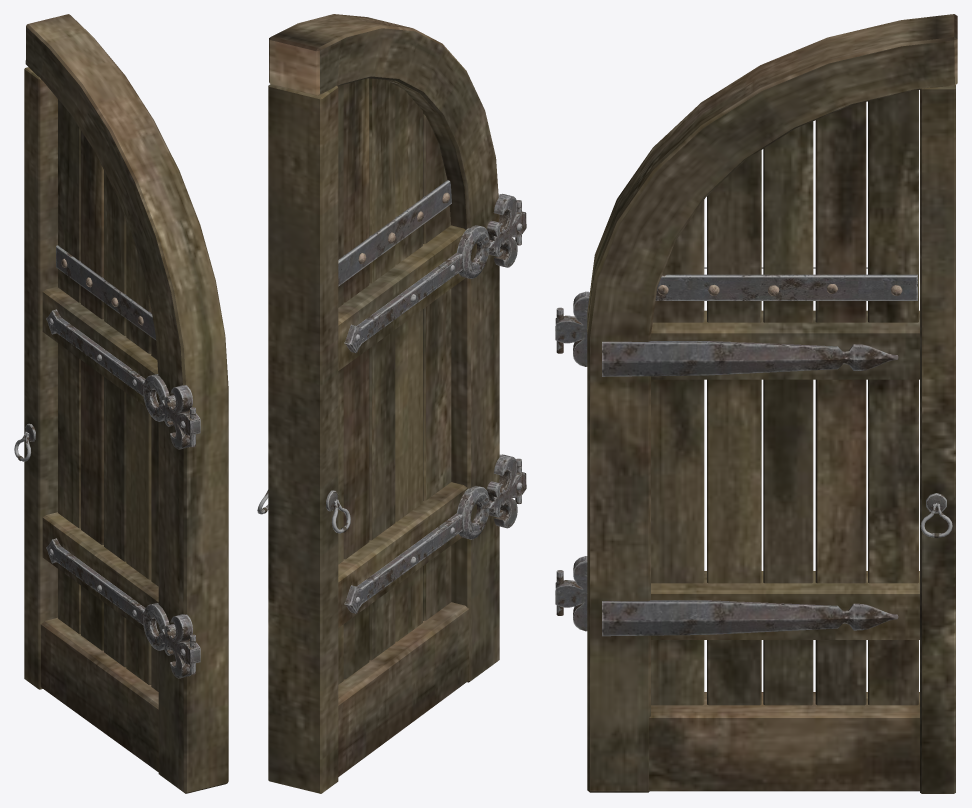
The model's file is SM_DoorWay_Large_Door_Right.glb.
3 renders of one model, left to right at view 1: azimuth 30°, elevation 25°; view 2: azimuth 150°, elevation 25°; view 3: azimuth 270°, elevation 25°, orthographic. The views are drawn at different scales.
Visible parts, largest first — view 1: SM_DoorWay_Large_Door_Right; view 2: SM_DoorWay_Large_Door_Right; view 3: SM_DoorWay_Large_Door_Right.
Part boxes in pixels (x1=…): SM_DoorWay_Large_Door_Right: x1=14, y1=14, x2=228, y2=793; SM_DoorWay_Large_Door_Right: x1=257, y1=14, x2=526, y2=793; SM_DoorWay_Large_Door_Right: x1=555, y1=14, x2=957, y2=793.
Bounding box in the file's own units: 0.324 × 2.76 × 1.33.
3 materials, 3 textured.
